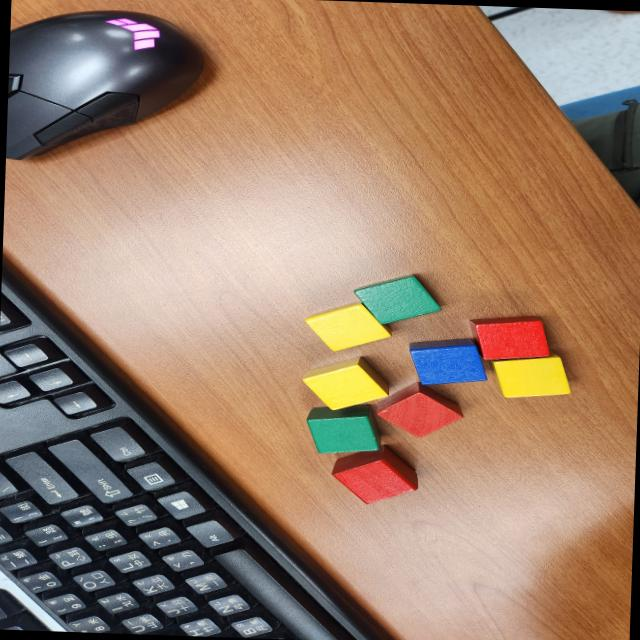blue: (405, 336, 490, 388)
green: (350, 271, 444, 328), (303, 402, 383, 456)
red: (328, 442, 419, 506), (375, 379, 464, 442), (466, 313, 552, 362)
yellow: (300, 353, 390, 412), (302, 300, 395, 353), (491, 349, 574, 402)
